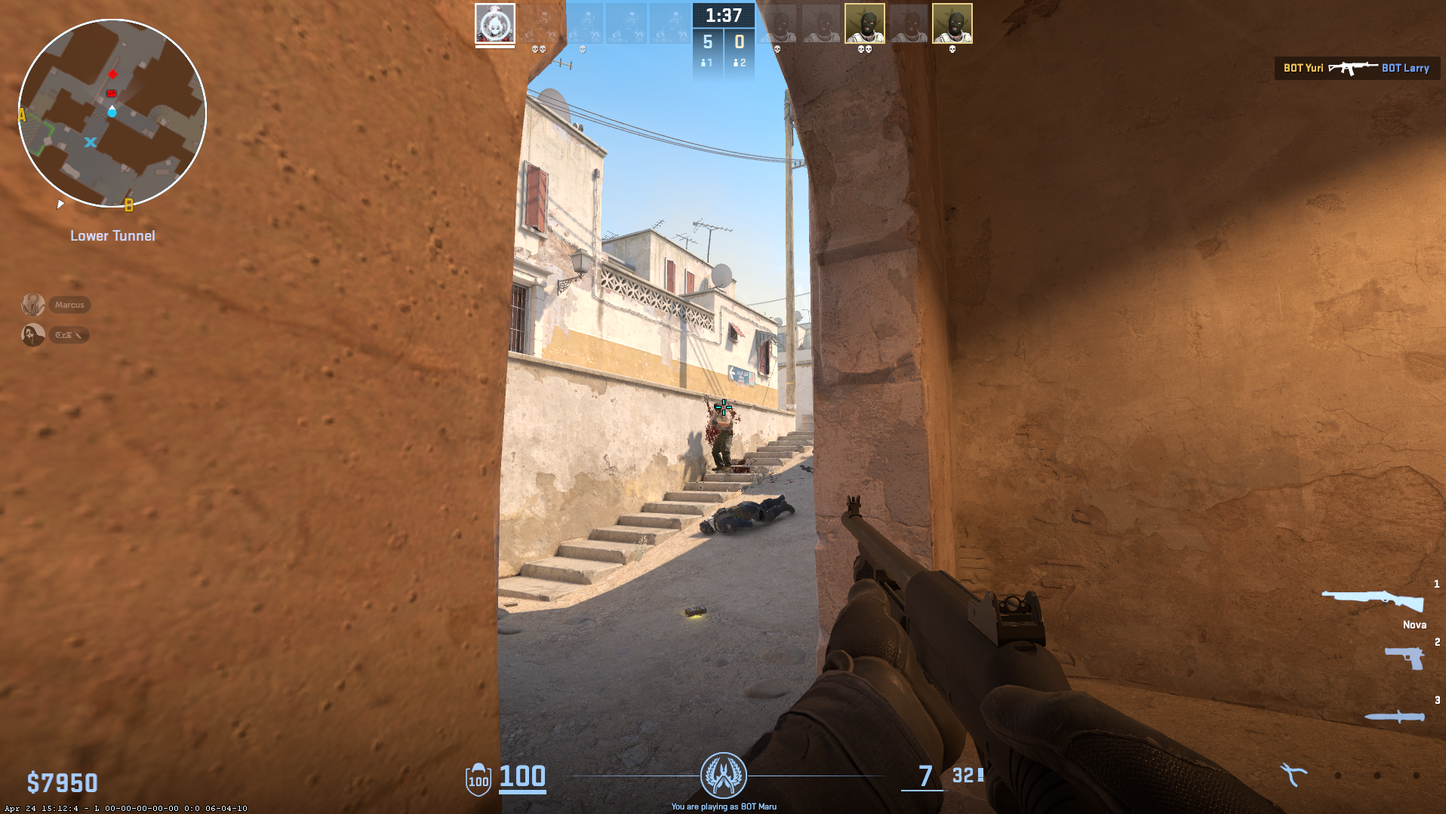T: (710, 403, 733, 471)
